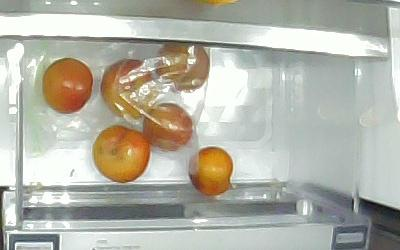prune: (93, 126, 151, 183), (43, 58, 93, 113)
prune_vinyl: (100, 59, 160, 120), (156, 42, 210, 91), (144, 103, 193, 151), (189, 146, 233, 195)
